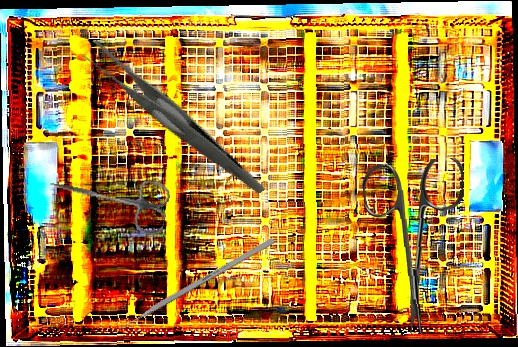Dressing Forceps: (78, 6, 266, 235)
Iris Scissors: (362, 157, 469, 337), (43, 160, 173, 237)
Pusher: (106, 236, 276, 339)
